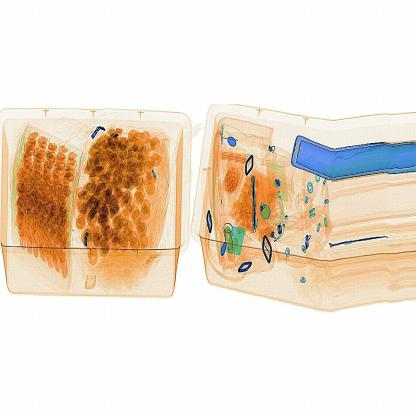knife: (250, 173, 260, 233)
